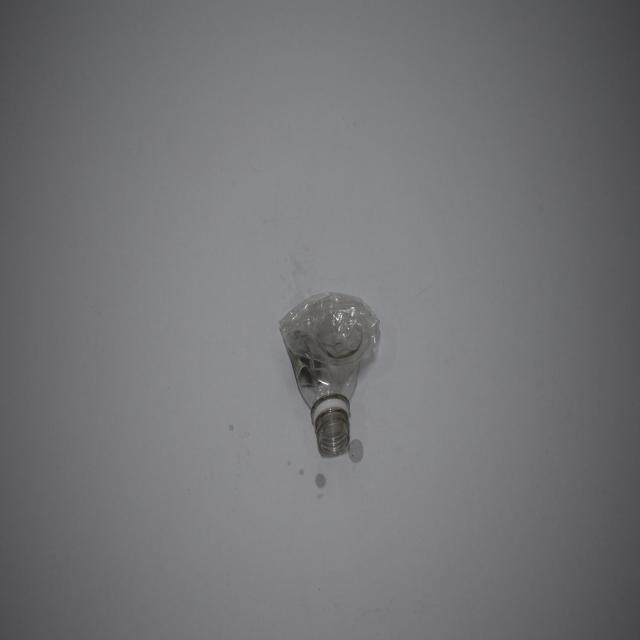bottle: (271, 284, 388, 461)
